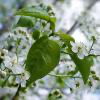Cherry leaf: (24, 32, 62, 93), (54, 30, 79, 55)
